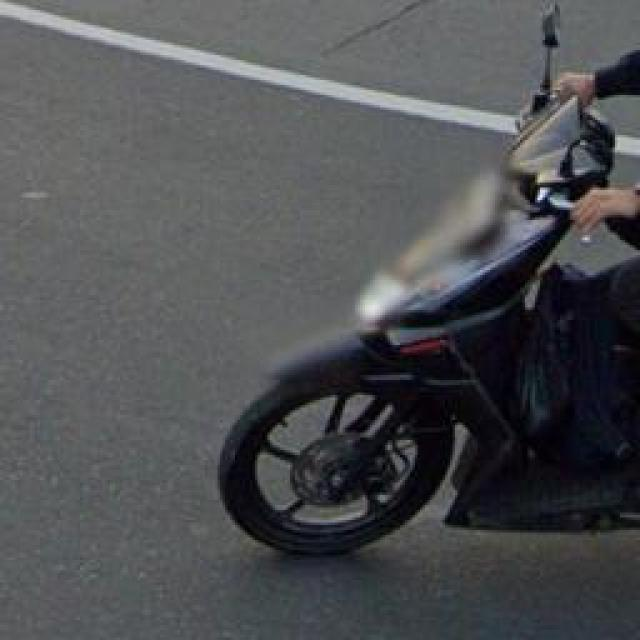motorbike: (223, 11, 640, 564)
